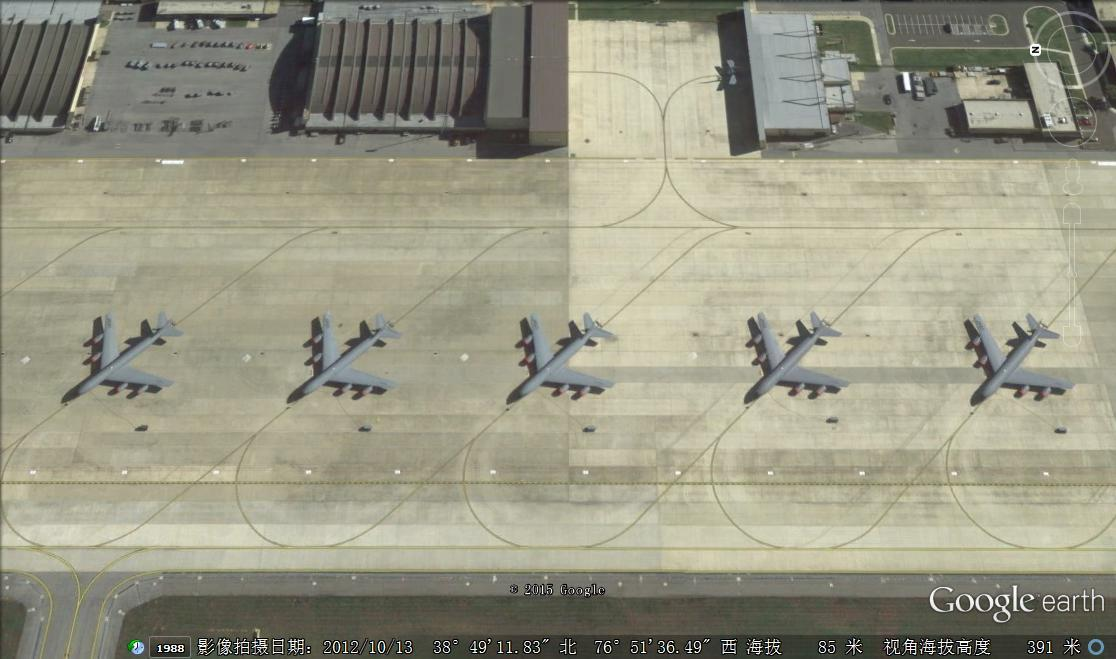KC-135: (289, 309, 404, 408), (963, 306, 1072, 410), (512, 308, 617, 409), (72, 307, 181, 403), (747, 310, 853, 399)
